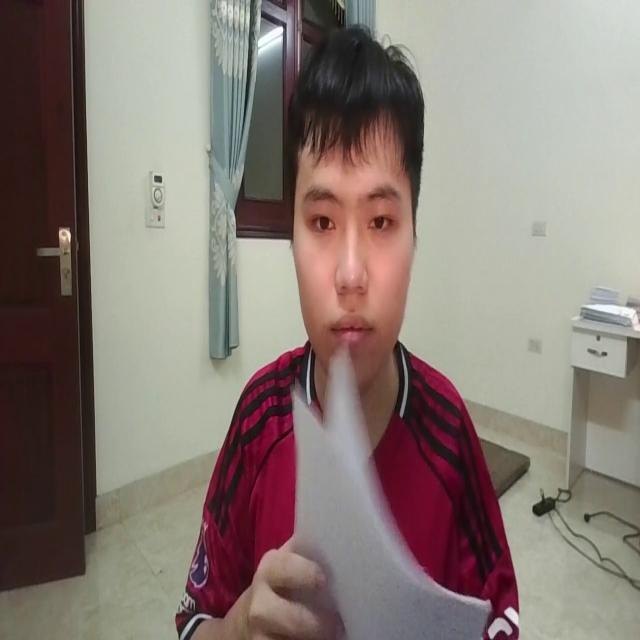book: (288, 381, 492, 638)
student: (186, 21, 522, 640)
